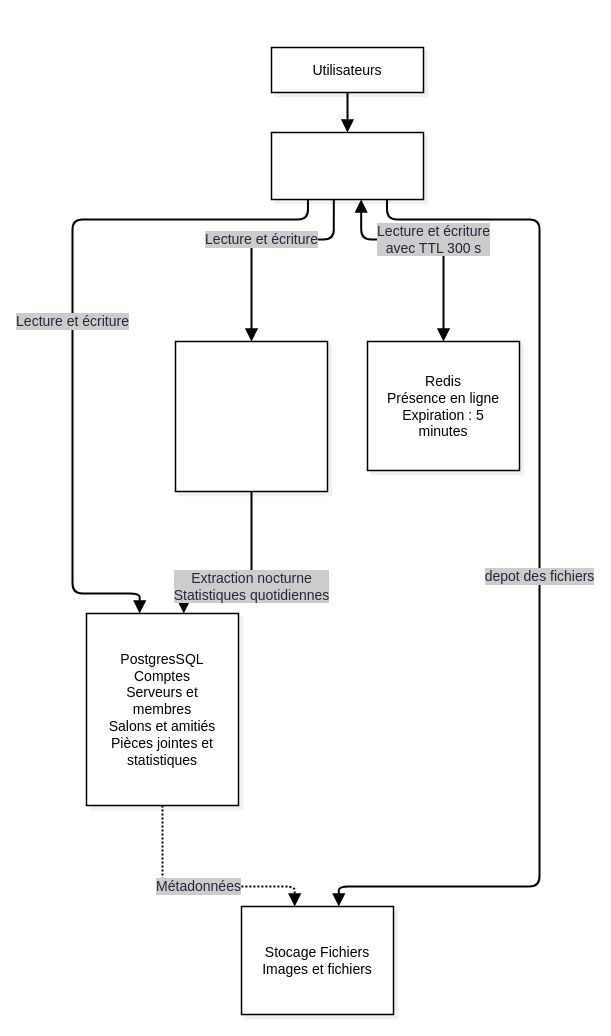
Some shapes in this 611 by 1036 pixel diagram are drawn without their labels. Each missing label, with the centre of its shape:
Application API et Services: point (349, 167)
ScyllaDB Messages Partitions de 10 jours Tri par "message_id": point (253, 418)
